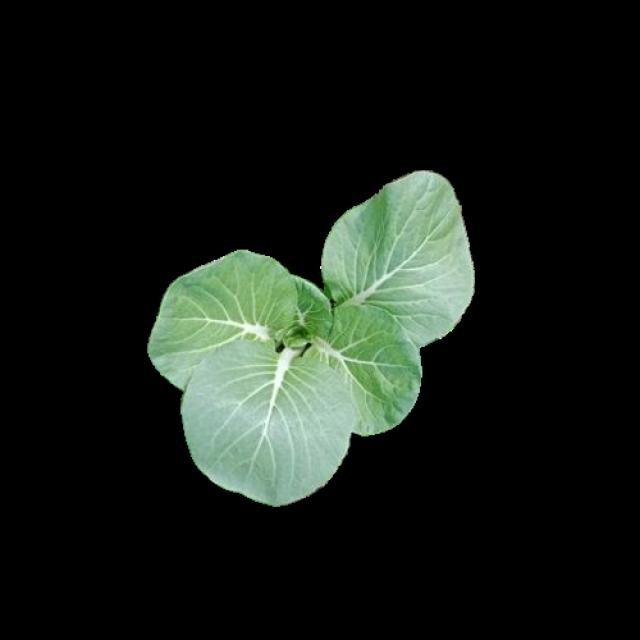healthy: (150, 187, 472, 502)
not-mature: (150, 173, 475, 504)
